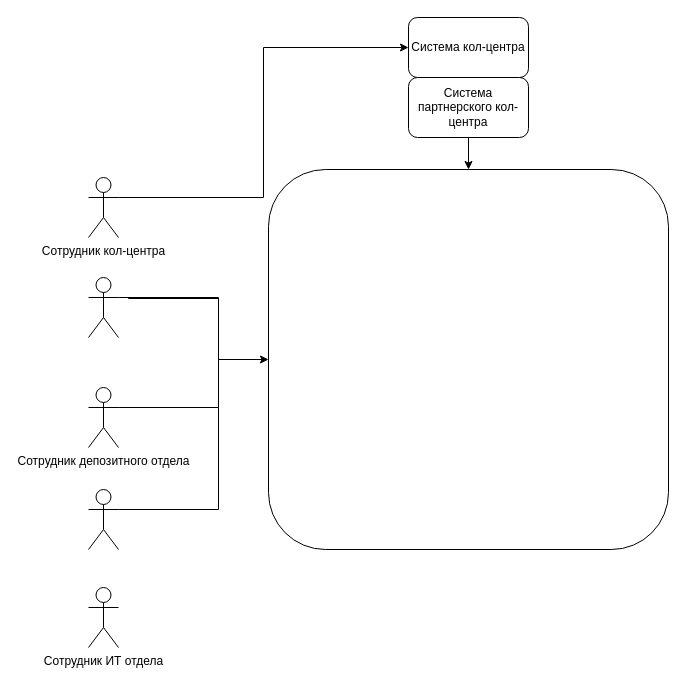
This 686x686 diagram has some shape labels left out. Each missing label, with the box of its shape:
АБС: (268, 168, 668, 550)
Сотрудник кредитования: (88, 488, 118, 550)
Сотрудник отделения: (88, 276, 118, 338)
